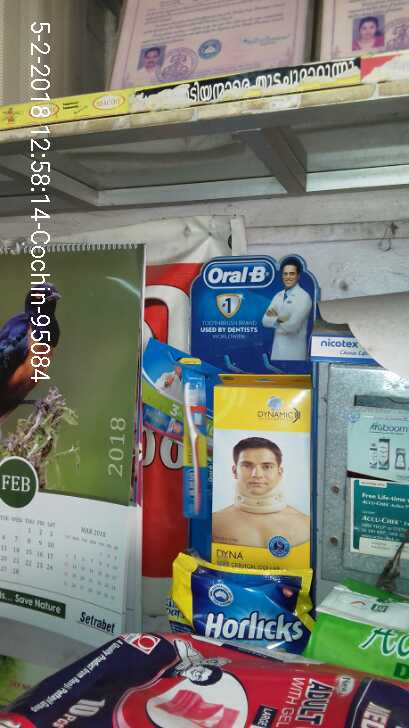oralb: (174, 359, 218, 518)
